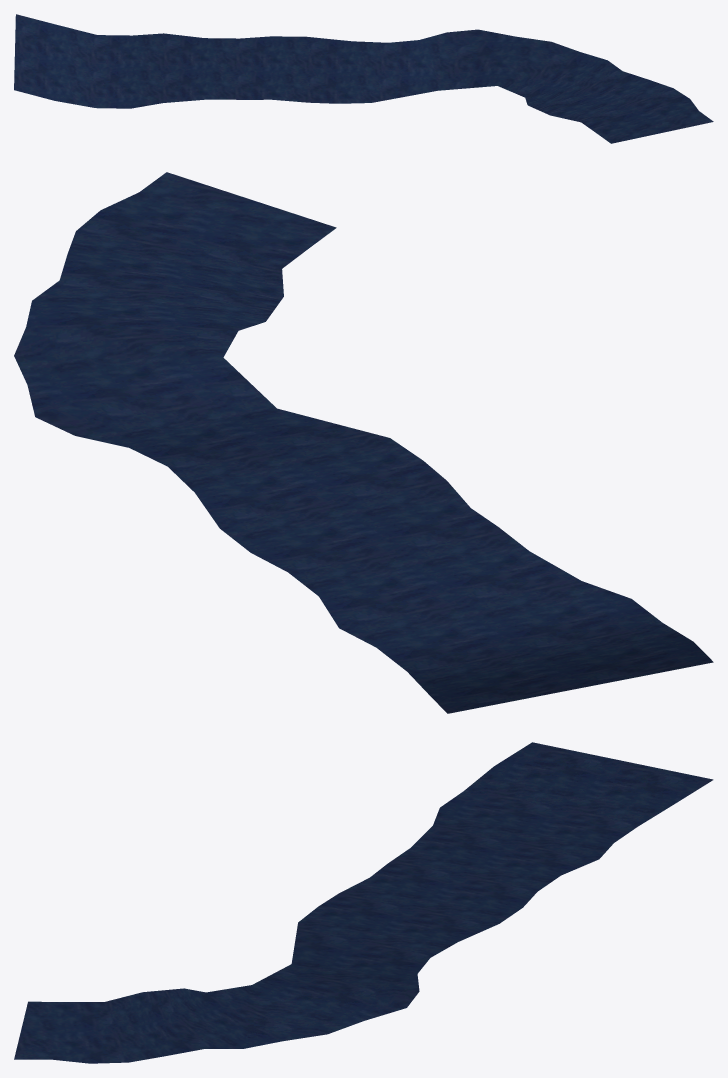
File: water.fbx
The picture shows the model from 3 angles, top to bottom: view 1: azimuth 30°, elevation 25°; view 2: azimuth 150°, elevation 25°; view 3: azimuth 270°, elevation 25°; orthographic projection. The views are drawn at different scales.
Visible parts, largest first — view 1: river_water; view 2: river_water; view 3: river_water.
Boxes of the visible parts, left/top/right/bottom form: river_water: left=14, top=14, right=713, bottom=143; river_water: left=14, top=172, right=713, bottom=713; river_water: left=14, top=742, right=713, bottom=1063.
Bounding box in the file's own units: 48.74 × 1.72 × 45.81.
